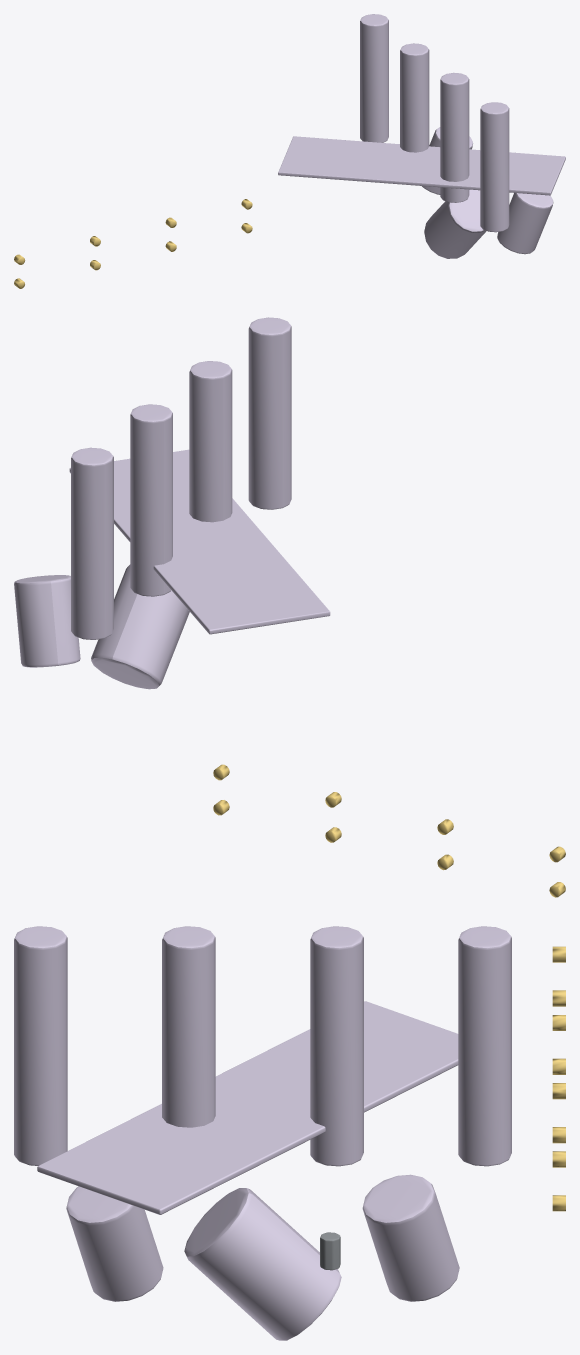
The model's file is engine_v8_exhaustheader_r.glb.
3 views of the same model, one above another, from view 1: azimuth 30°, elevation 25°; view 2: azimuth 150°, elevation 25°; view 3: azimuth 270°, elevation 25° (orthographic). The views are drawn at different scales.
Visible parts, largest first — view 1: Engine_V8_ExhaustHeader_R, GEO_V8Header_CopperNuts; view 2: Engine_V8_ExhaustHeader_R, GEO_V8Header_CopperNuts; view 3: Engine_V8_ExhaustHeader_R, GEO_V8Header_CopperNuts.
Boxes of the visible parts, x1,y1,x2,y2 form: Engine_V8_ExhaustHeader_R: [278, 14, 565, 258]; GEO_V8Header_CopperNuts: [14, 199, 252, 288]; Engine_V8_ExhaustHeader_R: [14, 317, 330, 689]; GEO_V8Header_CopperNuts: [213, 764, 565, 897]; Engine_V8_ExhaustHeader_R: [14, 926, 511, 1340]; GEO_V8Header_CopperNuts: [552, 946, 565, 1211].
Size of the model in its own units: 0.6996 by 0.3084 by 0.4099.
